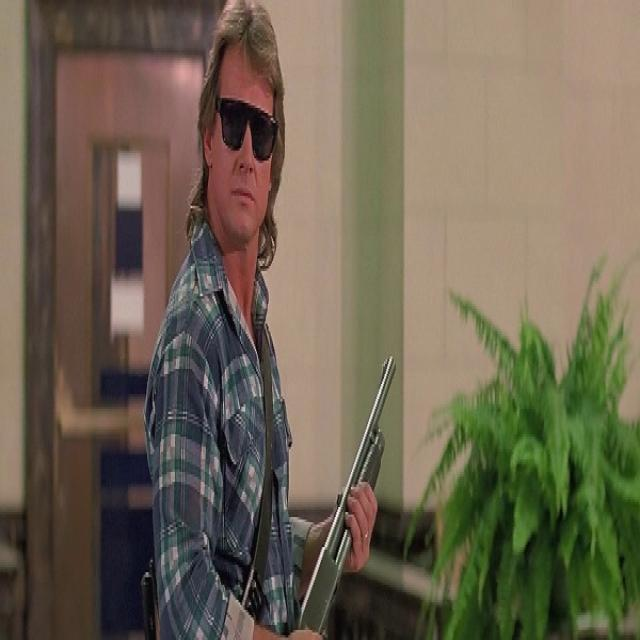rifle: (296, 343, 402, 640)
